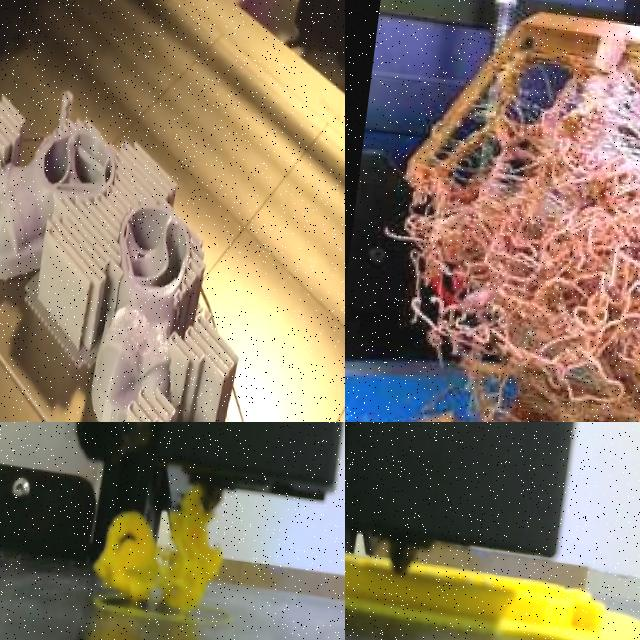spaghetti: (405, 12, 640, 422), (75, 474, 253, 634)
